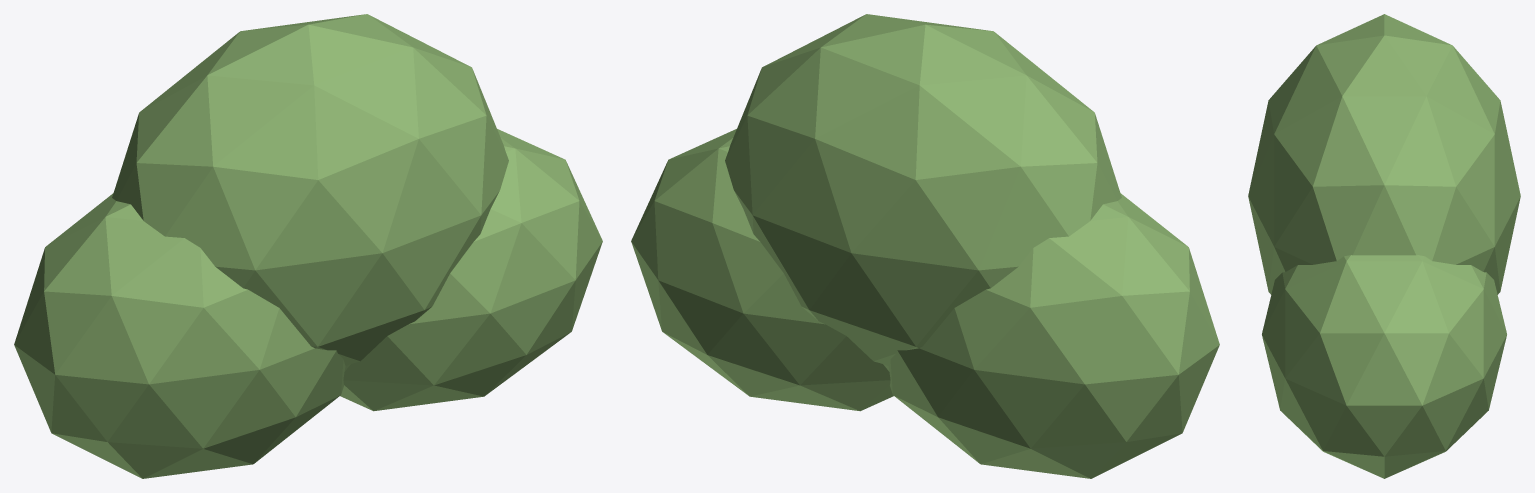
Rendered from SM_CityFoliage.fbx.
The picture shows the model from 3 angles, left to right: view 1: azimuth 30°, elevation 25°; view 2: azimuth 150°, elevation 25°; view 3: azimuth 270°, elevation 25°; orthographic projection. The views are drawn at different scales.
Parts seen in each view (by area): view 1: SM_CityFoliage; view 2: SM_CityFoliage; view 3: SM_CityFoliage.
Part boxes in pixels (box(x1,y1,x2,y2)): SM_CityFoliage: box(14, 14, 602, 478); SM_CityFoliage: box(631, 14, 1219, 478); SM_CityFoliage: box(1248, 14, 1520, 478).
Bounding box in the file's own units: 214 × 100 × 155.
